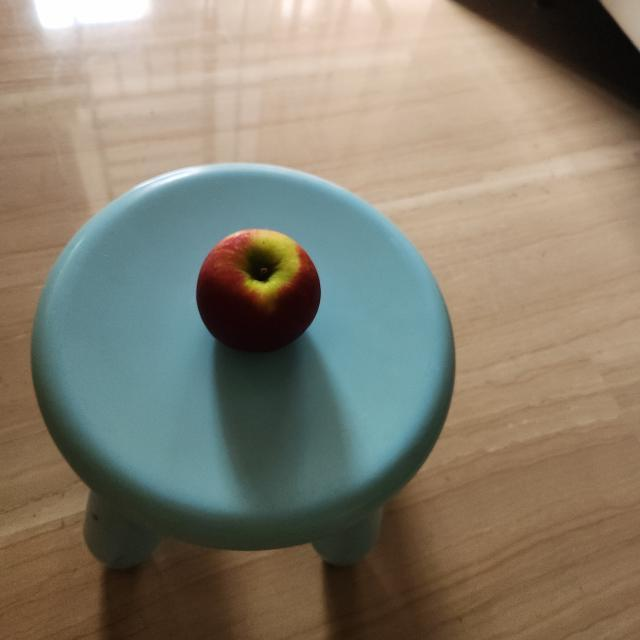apple: (186, 229, 332, 366)
